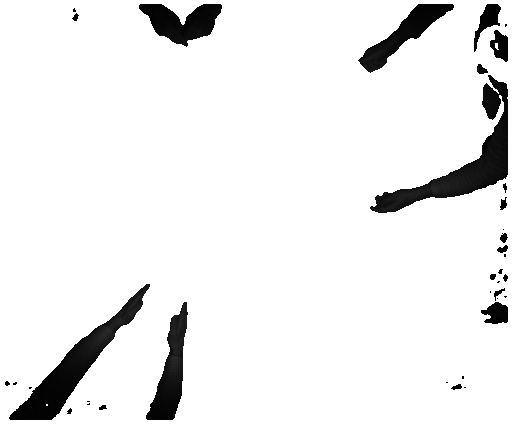fist: (352, 44, 391, 79)
hand: (136, 12, 189, 47), (368, 184, 418, 215), (186, 12, 223, 47)
spine: (98, 280, 151, 331), (160, 296, 191, 350)
